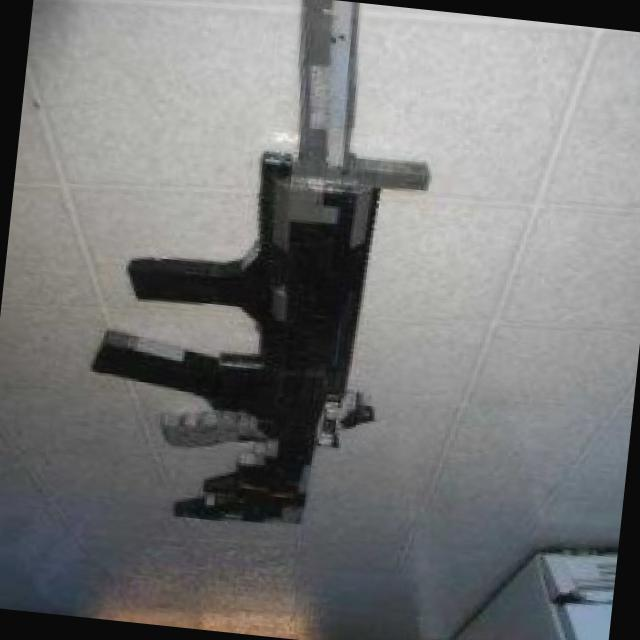long weapon: (82, 32, 397, 560)
